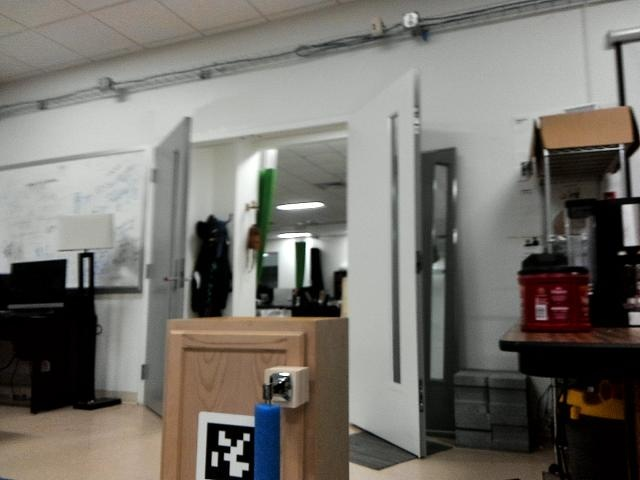noodle_handle: (250, 390, 285, 480)
